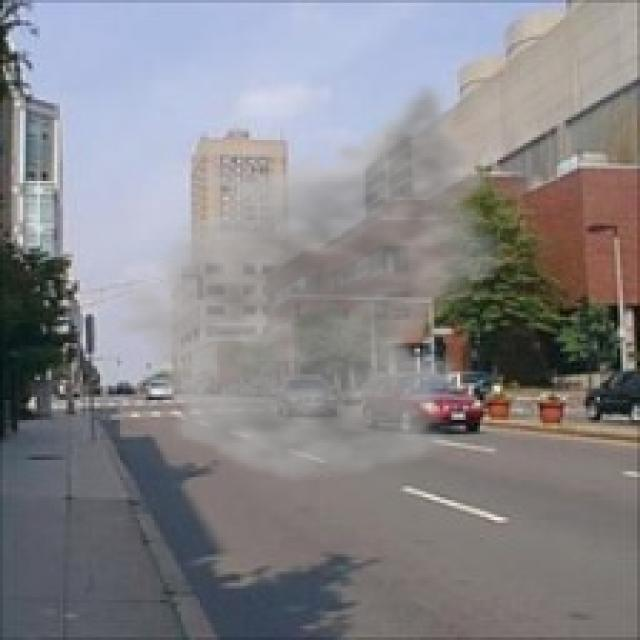Smoke: (102, 80, 518, 486)
